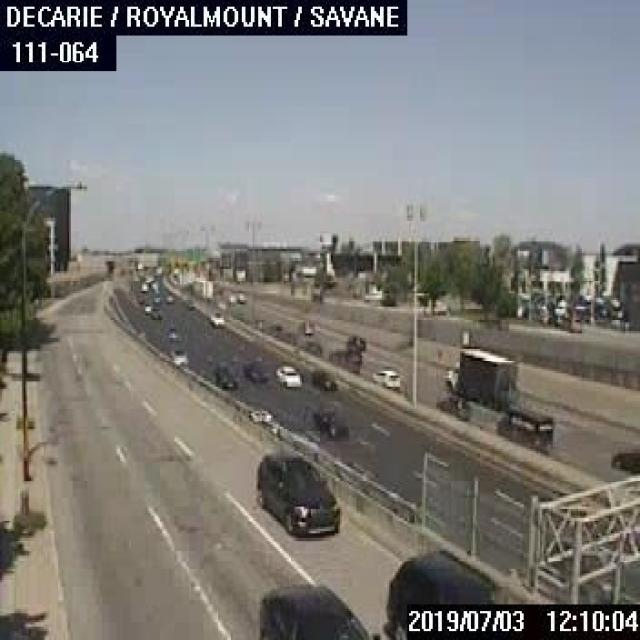vehicle: (382, 546, 527, 638), (253, 449, 342, 535), (255, 580, 369, 638), (442, 344, 517, 408), (496, 403, 552, 451), (309, 404, 347, 436), (434, 395, 470, 421), (367, 367, 404, 391), (611, 451, 638, 474), (273, 364, 301, 386), (309, 367, 334, 389), (190, 276, 211, 300), (212, 364, 232, 389), (242, 362, 262, 382), (169, 347, 189, 362), (346, 334, 364, 350), (207, 311, 224, 327), (167, 322, 180, 340), (149, 306, 161, 318), (302, 320, 313, 333), (182, 298, 194, 308), (164, 292, 172, 302), (152, 294, 160, 302)
